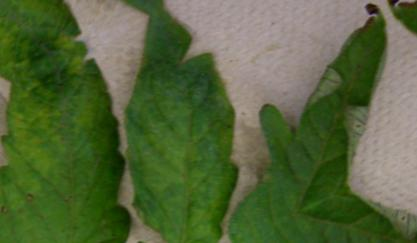Tomato leaf mosaic virus: (166, 0, 417, 243), (68, 2, 278, 243), (0, 43, 184, 243)
